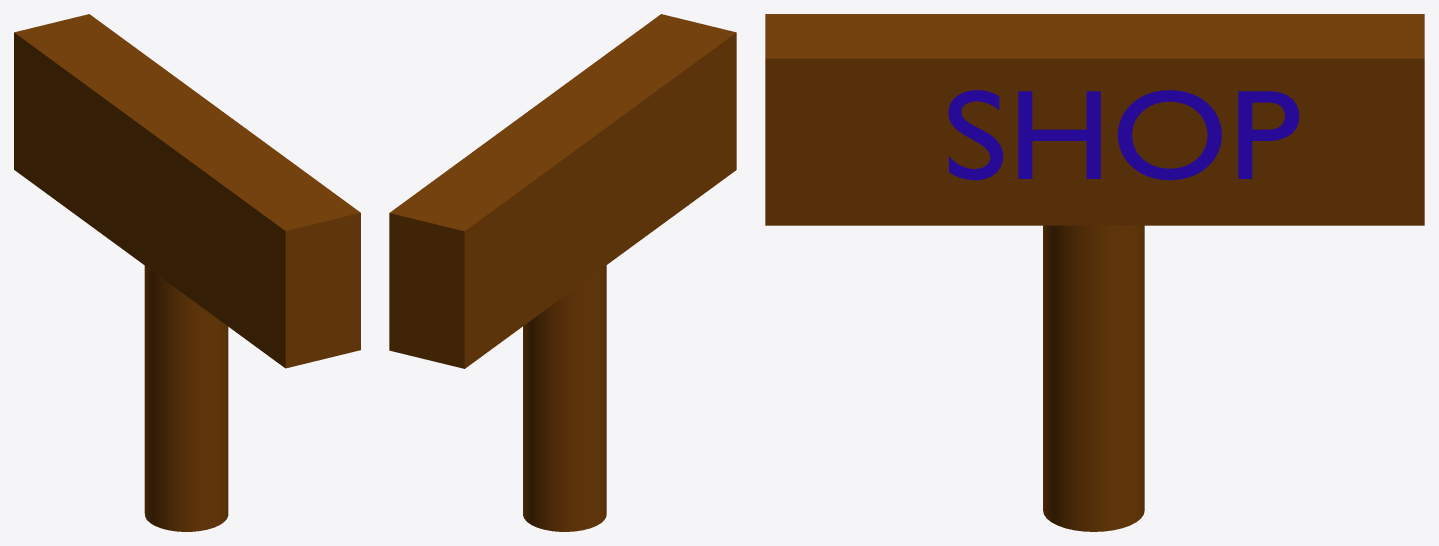
The model's file is Sign.fbx.
3 renders of one model, left to right at view 1: azimuth 30°, elevation 25°; view 2: azimuth 150°, elevation 25°; view 3: azimuth 270°, elevation 25°, orthographic. The views are drawn at different scales.
Visible parts, largest first — view 1: Sign, PostHolder; view 2: Sign, PostHolder; view 3: Sign, PostHolder, Sign Text.
Part boxes in pixels (<box>): Sign: <box>14,14,360,368</box>; PostHolder: <box>144,266,228,531</box>; Sign: <box>389,14,736,368</box>; PostHolder: <box>523,265,606,531</box>; Sign: <box>765,14,1424,225</box>; PostHolder: <box>1043,225,1144,531</box>; Sign Text: <box>948,90,1299,180</box>.
Size of the model in its own units: 75.96 by 369 by 464.
